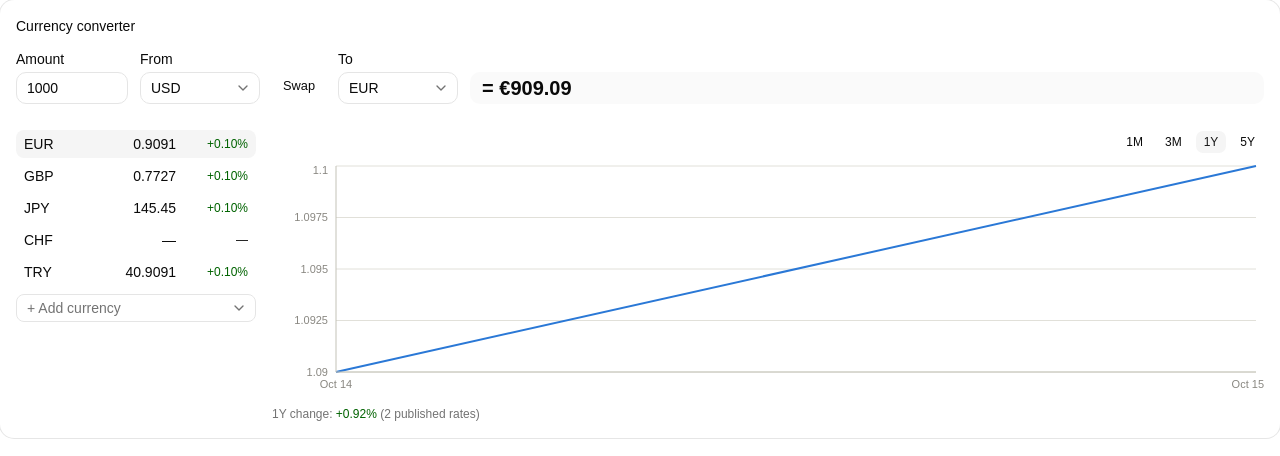
Test case: CurrencyConverterCard › swaps the direction and recomputes
Check: the text named "Converted amount" shows "€909.09", box [499,77,572,99]
Click the button with aria-label "Swap currencies". click: (299, 86)
box: [272,72,326,100]
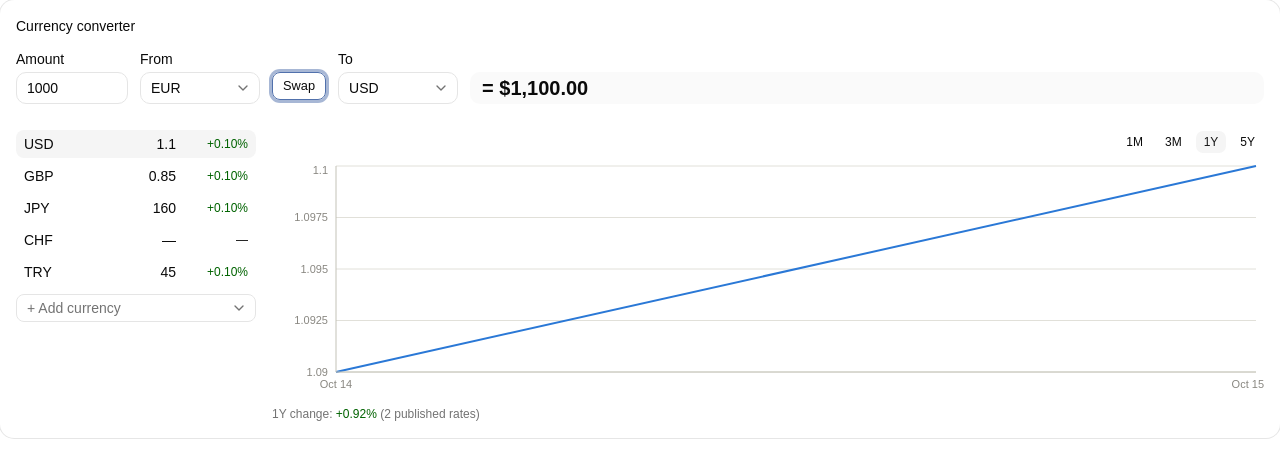
Check: the text named "Converted amount" shows "$1,100.00", box [499,77,588,99]
